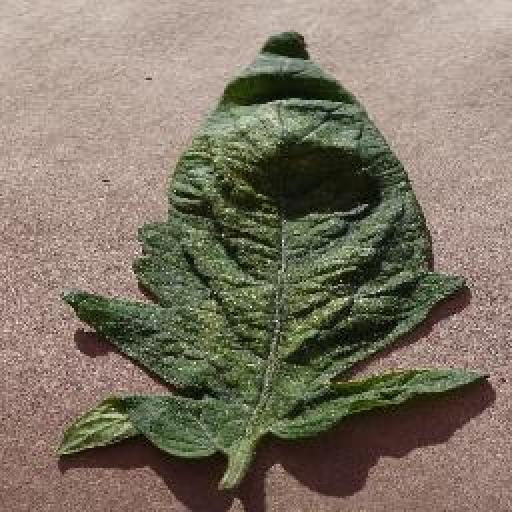Spider Mites: (60, 29, 491, 460)
